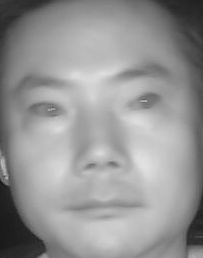eye: (124, 89, 167, 114), (28, 97, 69, 123)
mouth: (65, 189, 144, 227)
